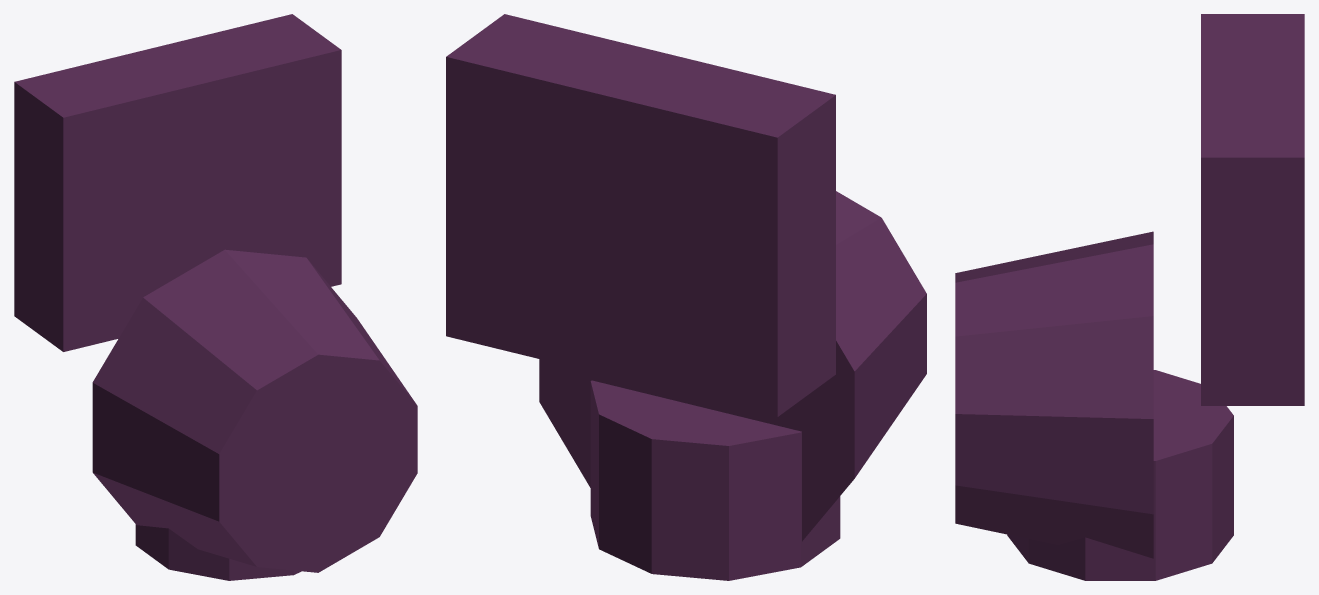
Rendered from toilet.obj.
3 renders of one model, left to right at view 1: azimuth 30°, elevation 25°; view 2: azimuth 150°, elevation 25°; view 3: azimuth 270°, elevation 25°, orthographic. The views are drawn at different scales.
Parts seen in each view (by area): view 1: toilet-tank, cozy-toilet-bowl, toilet-base; view 2: toilet-tank, toilet-base, cozy-toilet-bowl; view 3: cozy-toilet-bowl, toilet-tank, toilet-base.
Boxes of the visible parts, x1=… form: toilet-tank: x1=14, y1=14, x2=341, y2=351; cozy-toilet-bowl: x1=92, y1=249, x2=417, y2=572; toilet-base: x1=135, y1=524, x2=301, y2=580; toilet-tank: x1=446, y1=14, x2=835, y2=416; toilet-base: x1=590, y1=380, x2=840, y2=580; cozy-toilet-bowl: x1=539, y1=191, x2=926, y2=541; cozy-toilet-bowl: x1=955, y1=231, x2=1153, y2=558; toilet-tank: x1=1201, y1=14, x2=1304, y2=405; toilet-base: x1=1007, y1=370, x2=1233, y2=580.
Bounding box in the file's own units: 0.72 × 1.09 × 0.74.
